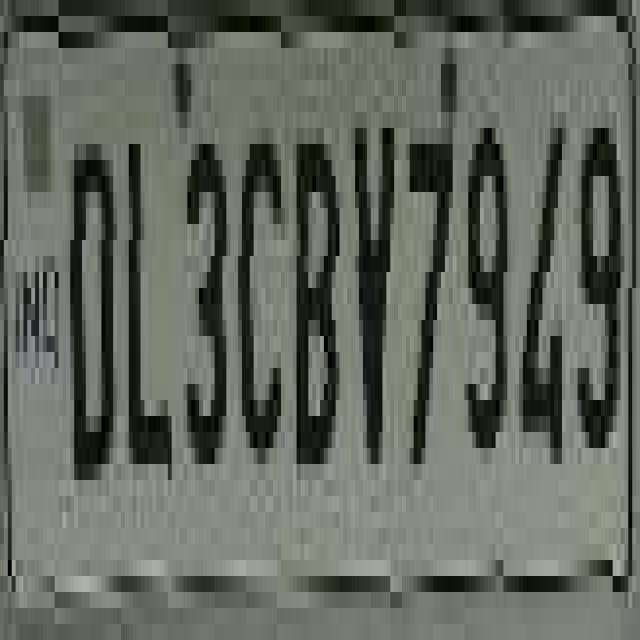license_plate: (0, 0, 613, 624)
